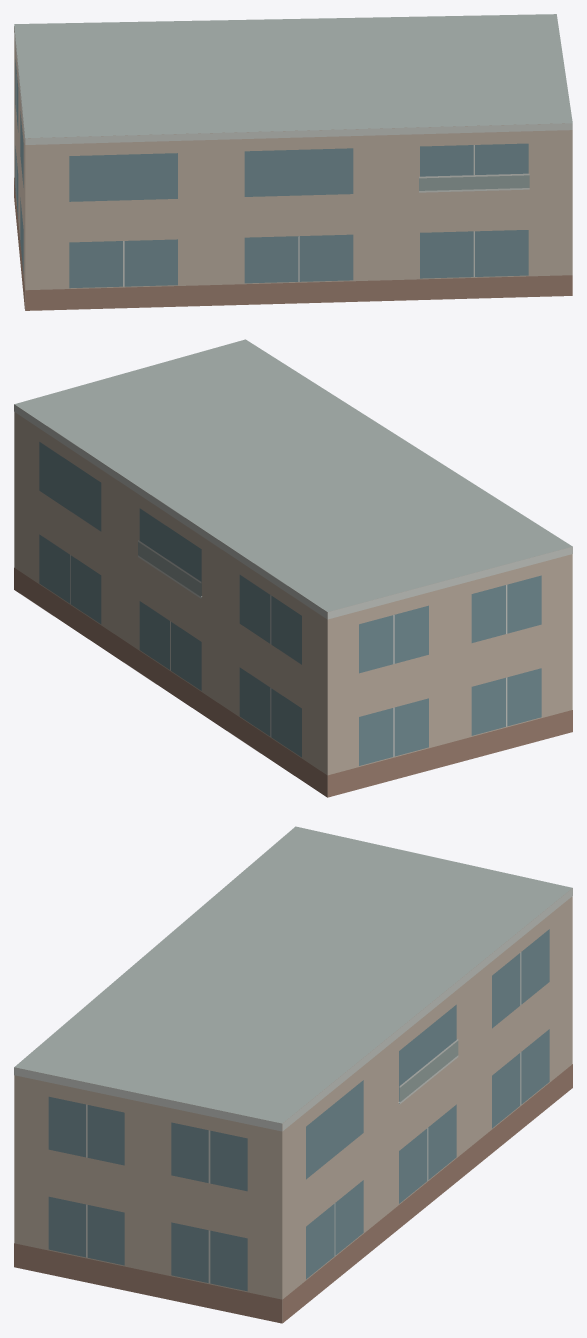
File: survey-upis-32929333.glb
The picture shows the model from 3 angles, top to bottom: view 1: azimuth 30°, elevation 25°; view 2: azimuth 150°, elevation 25°; view 3: azimuth 270°, elevation 25°; orthographic projection. The views are drawn at different scales.
Visible parts, largest first — view 1: survey-upis-32929333.tmp; view 2: survey-upis-32929333.tmp; view 3: survey-upis-32929333.tmp.
Part boxes in pixels (left/top/right/bottom): survey-upis-32929333.tmp: left=14, top=14, right=572, bottom=310; survey-upis-32929333.tmp: left=14, top=339, right=572, bottom=797; survey-upis-32929333.tmp: left=14, top=826, right=572, bottom=1323.
Bounding box in the file's own units: 19.46 × 6.1 × 15.46.
